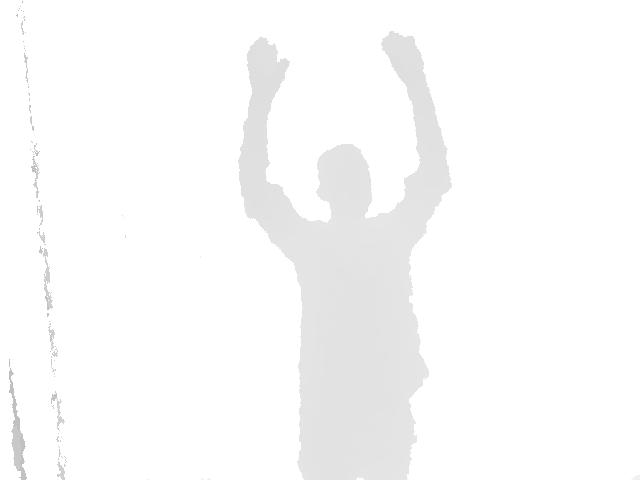hand: (246, 37, 290, 102), (378, 31, 427, 89)
head: (316, 144, 373, 217)
person: (238, 31, 454, 480)
